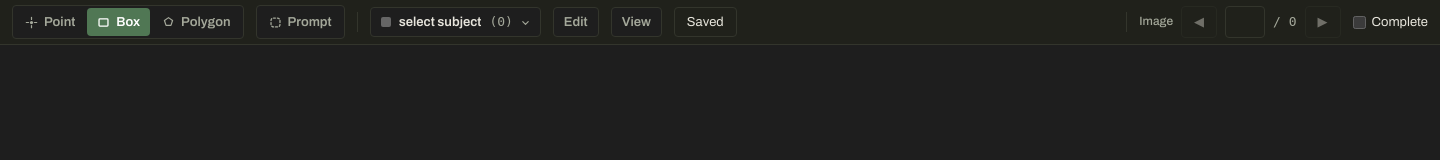
Test: AnnotateToolbar engine prompt › arms the next point or box as a prompt, and disarmed shows no phrase
Expected: the field labelled "Phrase" is not shown
Click the button "Prompt".
click(300, 22)  # box 259,8 -> 342,36
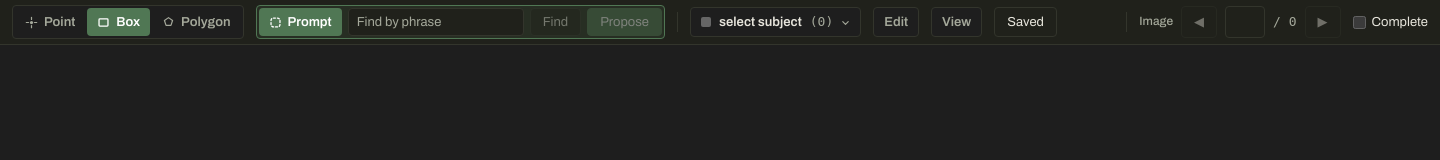
Now the field labelled "phrase" is shown, box 348,8 -> 524,36
